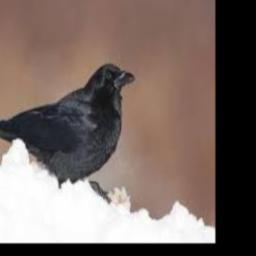Crow: (0, 63, 136, 207)
